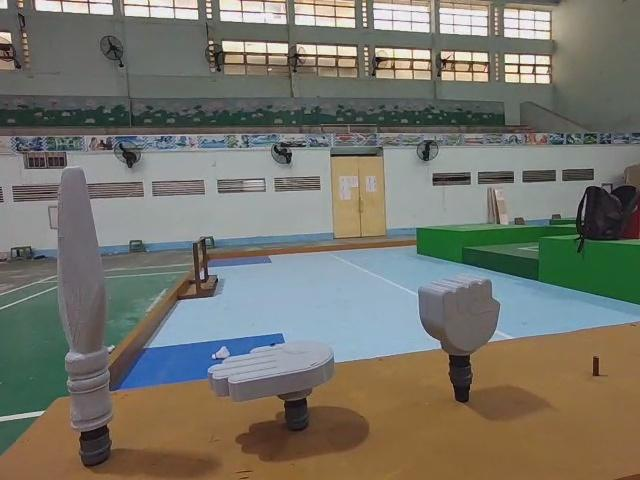Fist: (415, 274, 505, 408)
Hand: (211, 334, 339, 434)
Sph: (45, 158, 108, 473)
